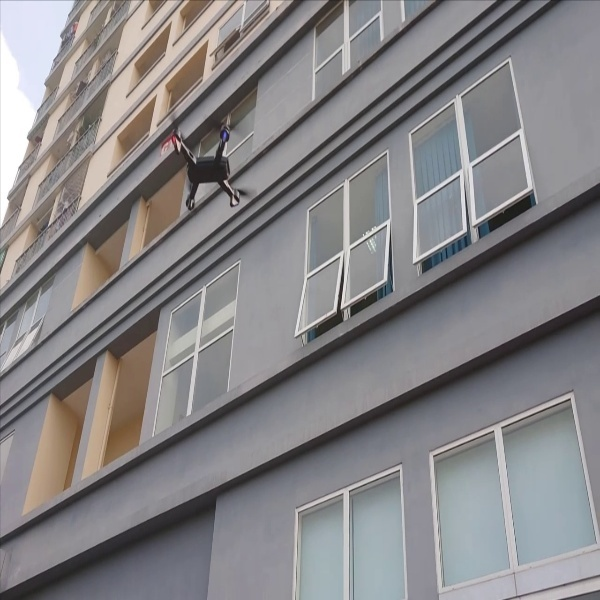drone: (172, 107, 255, 214)
